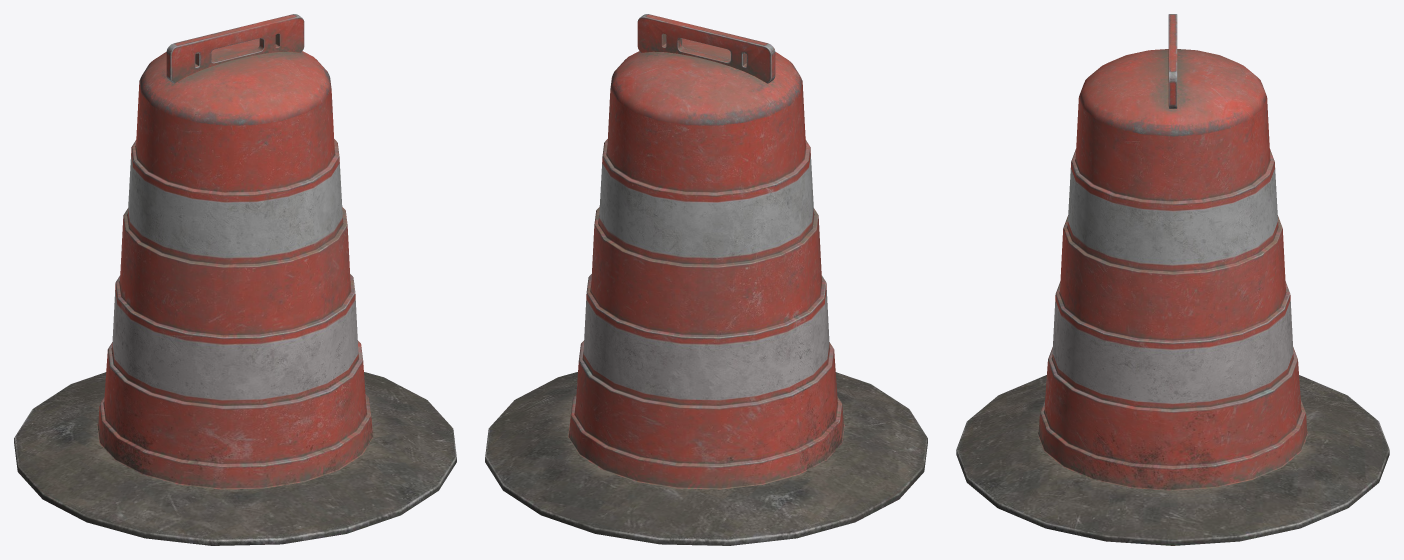
File: SM_Street_Cone01.glb
3 renders of one model, left to right at view 1: azimuth 30°, elevation 25°; view 2: azimuth 150°, elevation 25°; view 3: azimuth 270°, elevation 25°, orthographic. The views are drawn at different scales.
Visible parts, largest first — view 1: SM_Street_Cone01; view 2: SM_Street_Cone01; view 3: SM_Street_Cone01.
Part boxes in pixels (bbox=[...]): SM_Street_Cone01: bbox=[14, 14, 456, 545]; SM_Street_Cone01: bbox=[485, 14, 927, 545]; SM_Street_Cone01: bbox=[956, 14, 1389, 545].
Bounding box in the file's own units: 1.01 × 1.05 × 1.01.
Materials: 1 (1 with a texture image).
